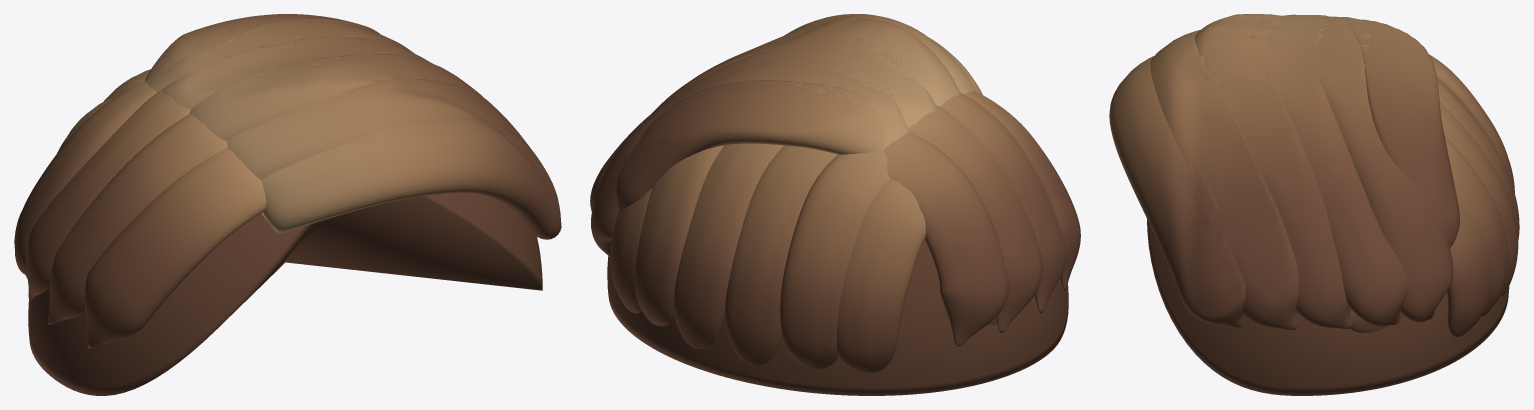
Rendered from Masculine-sidepart-pashmina258-hair-ombre.glb.
3 renders of one model, left to right at view 1: azimuth 30°, elevation 25°; view 2: azimuth 150°, elevation 25°; view 3: azimuth 270°, elevation 25°, orthographic. The views are drawn at different scales.
Visible parts, largest first — view 1: 226 hair / Hair258 / sculpted side sweep 1, 226 hair / Hair258 / recessed roots, 226 hair / Hair258 / sculpted side sweep 0, 226 hair / Hair258 / sculpted side sweep 2; view 2: 226 hair / Hair258 / sculpted side sweep 0, 226 hair / Hair258 / sculpted side sweep 1, 226 hair / Hair258 / sculpted side sweep 2, 226 hair / Hair258 / recessed roots; view 3: 226 hair / Hair258 / sculpted side sweep 0, 226 hair / Hair258 / sculpted side sweep 1, 226 hair / Hair258 / sculpted side sweep 2, 226 hair / Hair258 / recessed roots.
Part boxes in pixels (x1,y1,x2,y2): 226 hair / Hair258 / sculpted side sweep 1: (14,36,561,348); 226 hair / Hair258 / recessed roots: (28,193,542,395); 226 hair / Hair258 / sculpted side sweep 0: (48,14,532,324); 226 hair / Hair258 / sculpted side sweep 2: (26,54,483,300); 226 hair / Hair258 / sculpted side sweep 0: (591,14,1066,369); 226 hair / Hair258 / sculpted side sweep 1: (590,38,1080,365); 226 hair / Hair258 / sculpted side sweep 2: (652,18,1042,372); 226 hair / Hair258 / recessed roots: (607,240,1068,395); 226 hair / Hair258 / sculpted side sweep 0: (1150,16,1514,332); 226 hair / Hair258 / sculpted side sweep 1: (1109,14,1519,336); 226 hair / Hair258 / sculpted side sweep 2: (1194,14,1518,329); 226 hair / Hair258 / recessed roots: (1147,219,1509,395).
Bounding box in the file's own units: 0.9741 × 0.5526 × 0.7913.
